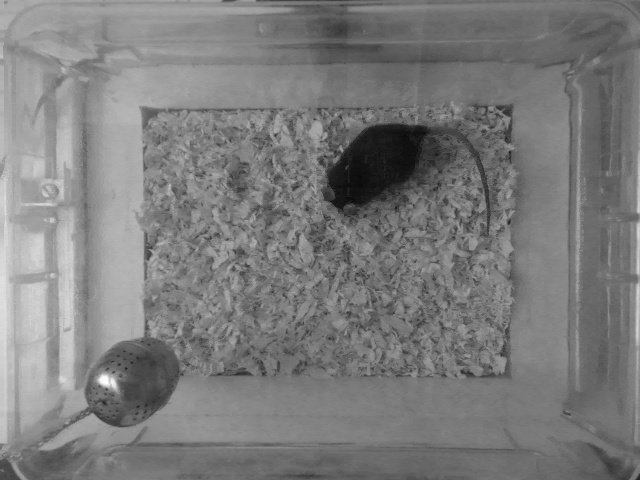mice: (320, 122, 493, 237)
